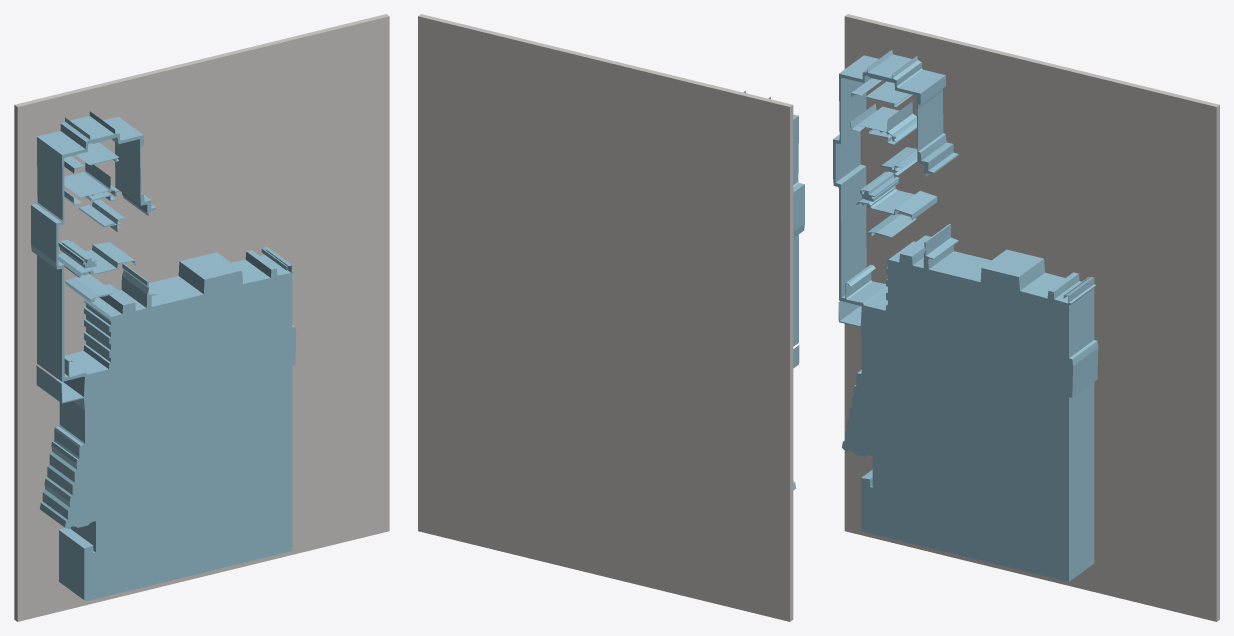
3 views of the same model, side by side, from view 1: azimuth 30°, elevation 25°; view 2: azimuth 150°, elevation 25°; view 3: azimuth 330°, elevation 25° (orthographic).
Visible parts, largest first — view 1: world; view 2: world; view 3: world.
Part boxes in pixels (left/top/right/bottom): world: left=14, top=14, right=389, bottom=621; world: left=418, top=14, right=804, bottom=621; world: left=833, top=14, right=1219, bottom=621.
Size of the model in its own units: 10.23 by 13.53 by 1.35.
